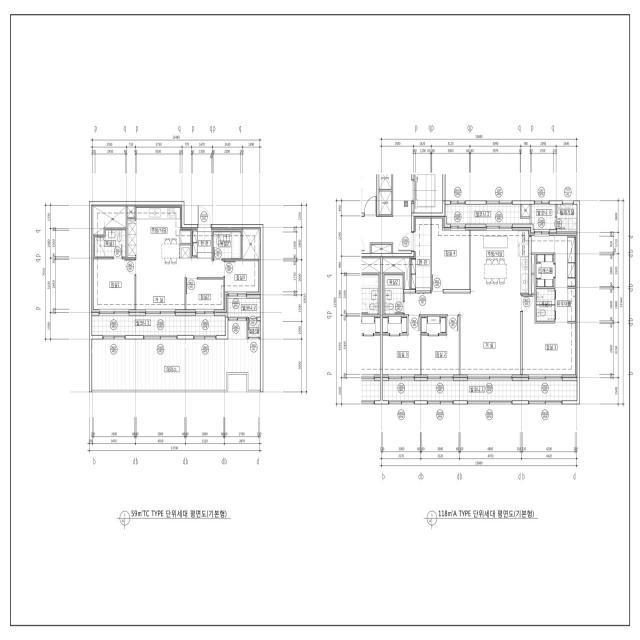space_balconi: (383, 381, 577, 400), (92, 316, 225, 335), (445, 205, 530, 224), (228, 298, 260, 317), (531, 204, 555, 229)
space_bedroom: (523, 295, 575, 377), (432, 218, 469, 289), (92, 259, 135, 312), (383, 316, 420, 377), (422, 316, 459, 377), (186, 279, 224, 312), (225, 261, 260, 295)
space_dressroom: (536, 255, 554, 286)
space_elevator: (414, 174, 443, 213)
space_elevator_hall: (361, 174, 414, 253)
space_front: (411, 218, 430, 291), (192, 228, 212, 258)
space_kitchen: (471, 228, 529, 293), (127, 205, 191, 258)
space_living_room: (405, 293, 521, 377), (136, 257, 224, 312)
space_other: (531, 236, 575, 321), (92, 205, 126, 235), (383, 258, 409, 289), (243, 228, 260, 259), (379, 191, 392, 215), (379, 174, 392, 189), (371, 245, 392, 253), (531, 255, 535, 293), (521, 205, 530, 217), (127, 205, 135, 217)
space_outdoor_room: (557, 204, 577, 231)
space_staircase: (248, 321, 260, 337)
space_toilet: (95, 229, 126, 257), (213, 231, 241, 259), (384, 275, 403, 314), (536, 289, 555, 321)
